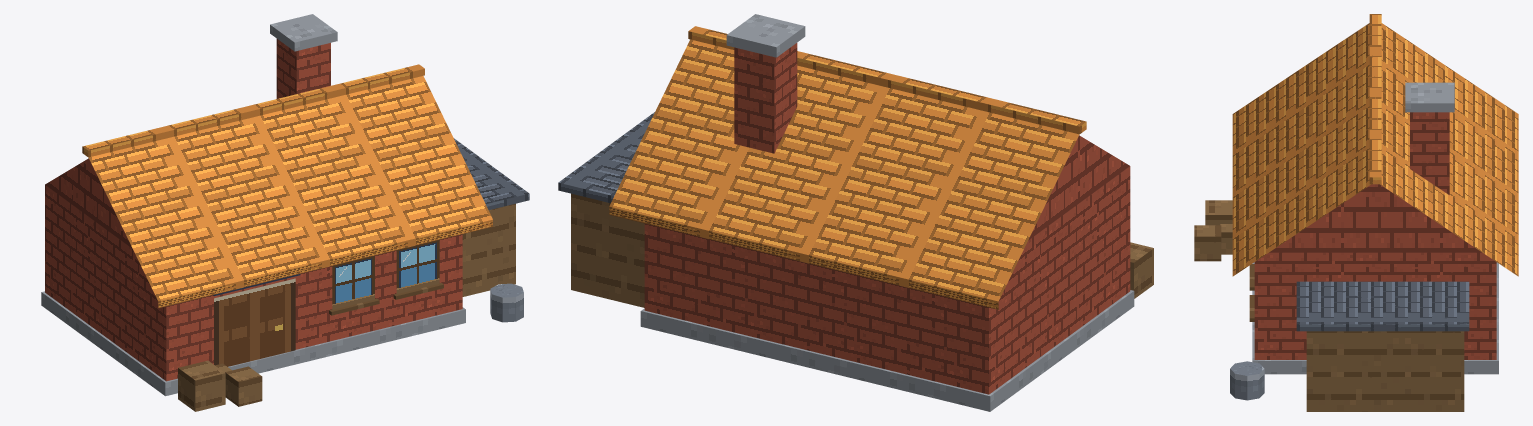
Rendered from dev_workshop.glb.
3 views of the same model, side by side, from view 1: azimuth 30°, elevation 25°; view 2: azimuth 150°, elevation 25°; view 3: azimuth 270°, elevation 25° (orthographic). The views are drawn at different scales.
Visible parts, largest first — view 1: dev_workshop; view 2: dev_workshop; view 3: dev_workshop.
Boxes of the visible parts, box(x1,y1,x2,y2) form: dev_workshop: box(41, 14, 529, 411); dev_workshop: box(558, 14, 1153, 411); dev_workshop: box(1194, 14, 1518, 411).
Size of the model in its own units: 9.42 by 5.5 by 6.58.
9 materials, 9 textured.
